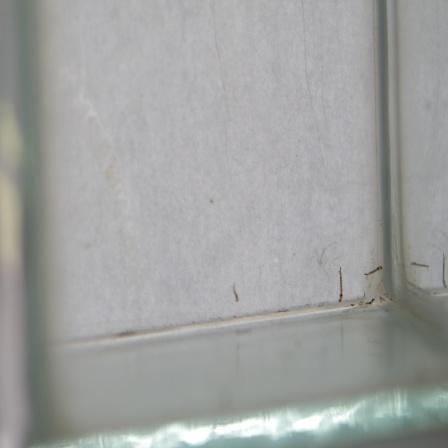Jentik-Nyamuk: (329, 265, 349, 308), (361, 258, 385, 284)
